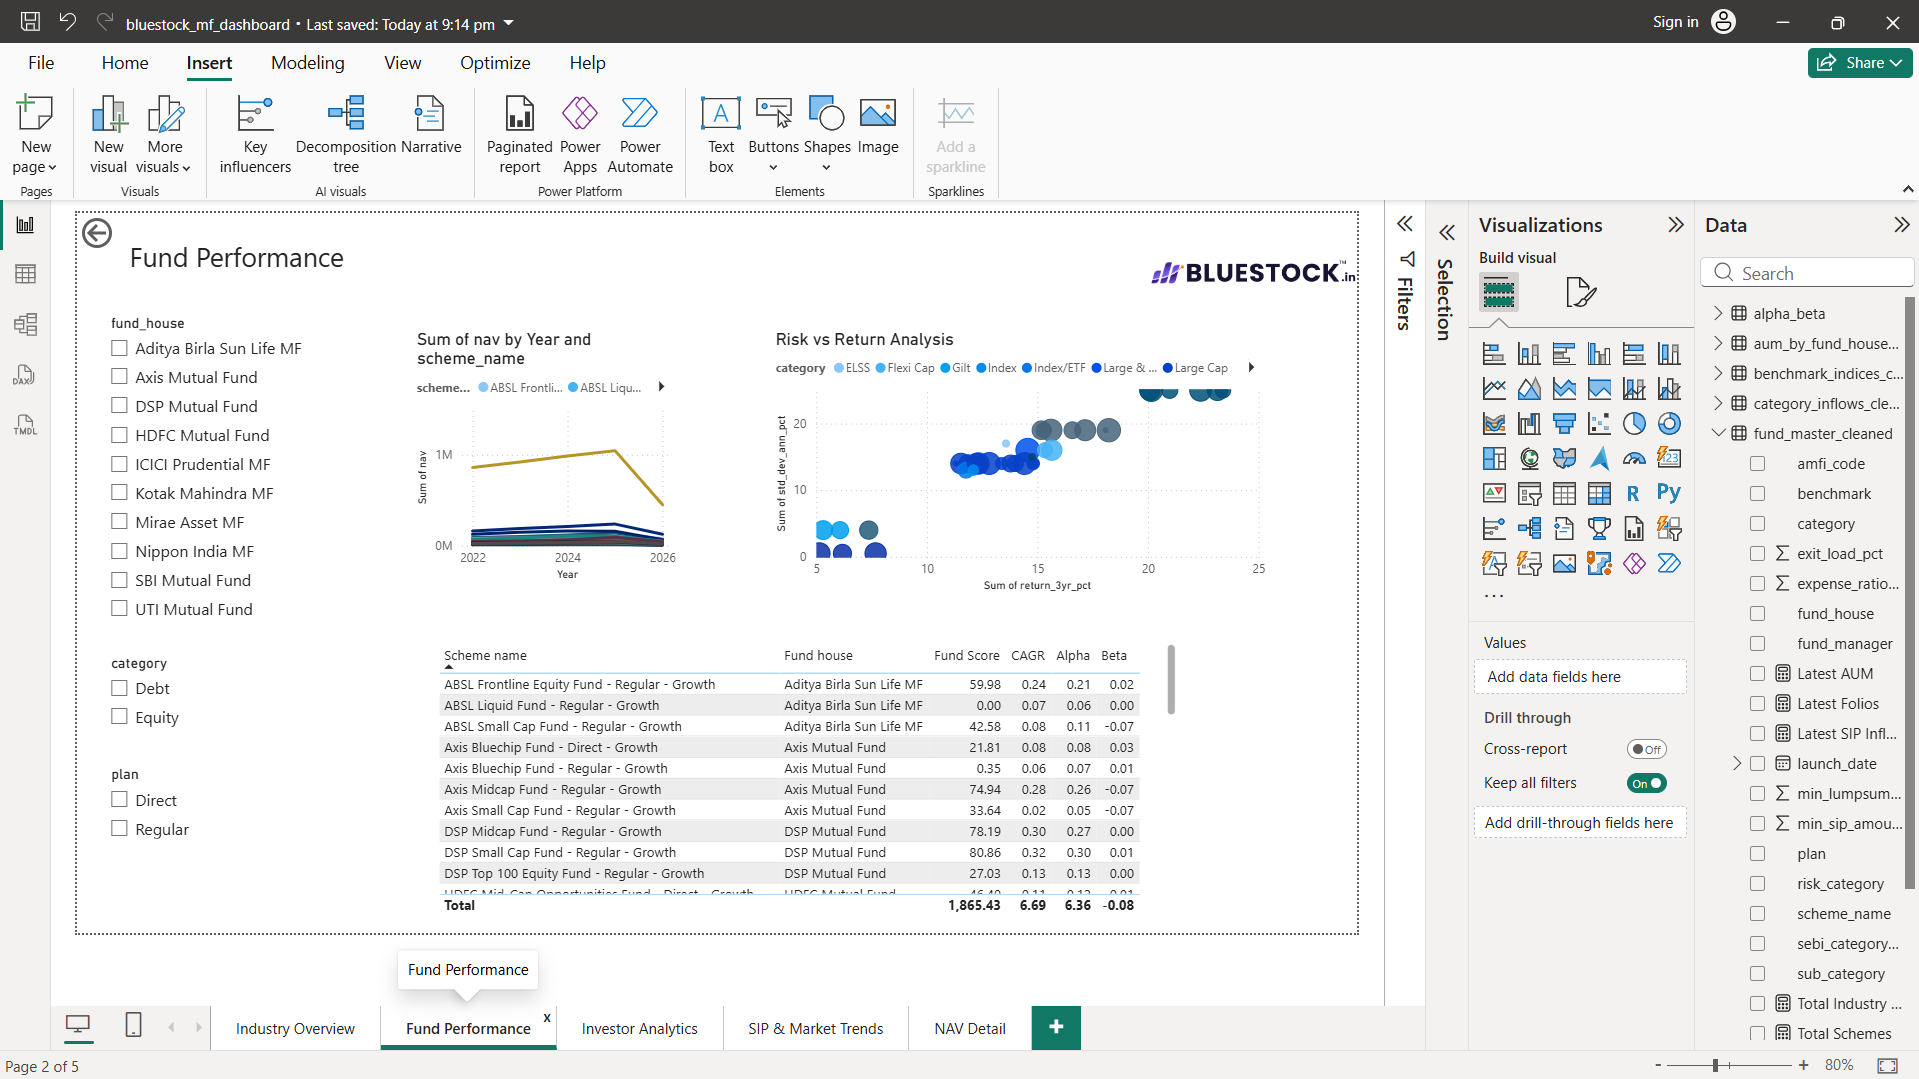

Layout of this report page (visuals, bound fields, positions):
{"tool":"powerbi","page":{"name":"Fund Performance","canvas":[1280,720],"ordinal":1},"visuals":[{"type":"scatterChart","title":"Risk vs Return Analysis","fields":{"X":["Sum(scheme_performance_cleaned.return_3yr_pct)"],"Y":["Sum(scheme_performance_cleaned.std_dev_ann_pct)"],"Size":["Sum(scheme_performance_cleaned.aum_crore)"],"Series":["scheme_performance_cleaned.category"],"Category":["scheme_performance_cleaned.scheme_name"]},"box":[693.8,116.2,500,267.5],"z":0},{"type":"tableEx","fields":{"Values":["fund_master_cleaned.scheme_name","fund_master_cleaned.fund_house","Sum(fund_scorecard.fund_score)","Sum(fund_scorecard.cagr)","Sum(alpha_beta.alpha)","Sum(alpha_beta.beta)"]},"box":[356.2,426.2,747.5,280],"z":1000},{"type":"actionButton","box":[0,0,100,40],"z":2000},{"type":"lineChart","fields":{"Category":["nav_history_cleaned.date.Variation.Date Hierarchy.Year","nav_history_cleaned.date.Variation.Date Hierarchy.Quarter","nav_history_cleaned.date.Variation.Date Hierarchy.Month","nav_history_cleaned.date.Variation.Date Hierarchy.Day"],"Series":["fund_master_cleaned.scheme_name"],"Y":["Sum(nav_history_cleaned.nav)"]},"box":[335,116.2,268.8,256.2],"z":3000},{"type":"slicer","fields":{"Values":["fund_master_cleaned.fund_house"]},"box":[21.2,96.2,225,321.2],"z":4000},{"type":"slicer","fields":{"Values":["fund_master_cleaned.category"]},"box":[21.2,436.2,111.2,92.5],"z":5000},{"type":"slicer","fields":{"Values":["fund_master_cleaned.plan"]},"box":[21.2,547.5,111.2,86.2],"z":6000},{"type":"image","box":[1073.8,0,206.2,117.5],"z":7000},{"type":"textbox","box":[47.5,20,248.8,51.2],"z":7001}]}

Visuals, with their boxes on the page's 1280x720 design canvas (x1, y1, x2, y2). These are canvas units, not pixel positions in the 1919x1079 screenshot, which may show the page scaled, cropped or inside an application window:
"Risk vs Return Analysis" scatterChart: l=694, t=116, r=1194, b=384
tableEx - fund_master_cleaned.scheme_name x fund_master_cleaned.fund_house: l=356, t=426, r=1104, b=706
actionButton: l=0, t=0, r=100, b=40
lineChart - nav_history_cleaned.date.Variation.Date Hierarchy.Year x nav_history_cleaned.date.Variation.Date Hierarchy.Quarter: l=335, t=116, r=604, b=372
slicer - fund_master_cleaned.fund_house: l=21, t=96, r=246, b=417
slicer - fund_master_cleaned.category: l=21, t=436, r=132, b=529
slicer - fund_master_cleaned.plan: l=21, t=548, r=132, b=634
image: l=1074, t=0, r=1280, b=118
textbox: l=48, t=20, r=296, b=71
